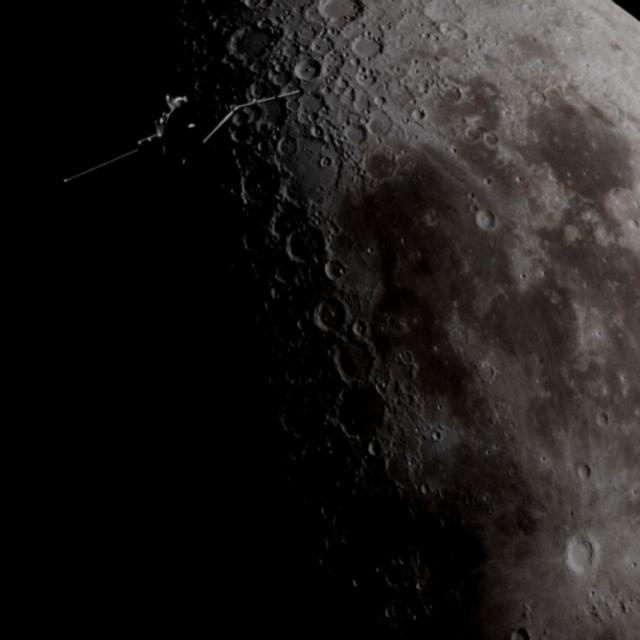satellite: (33, 68, 309, 201)
